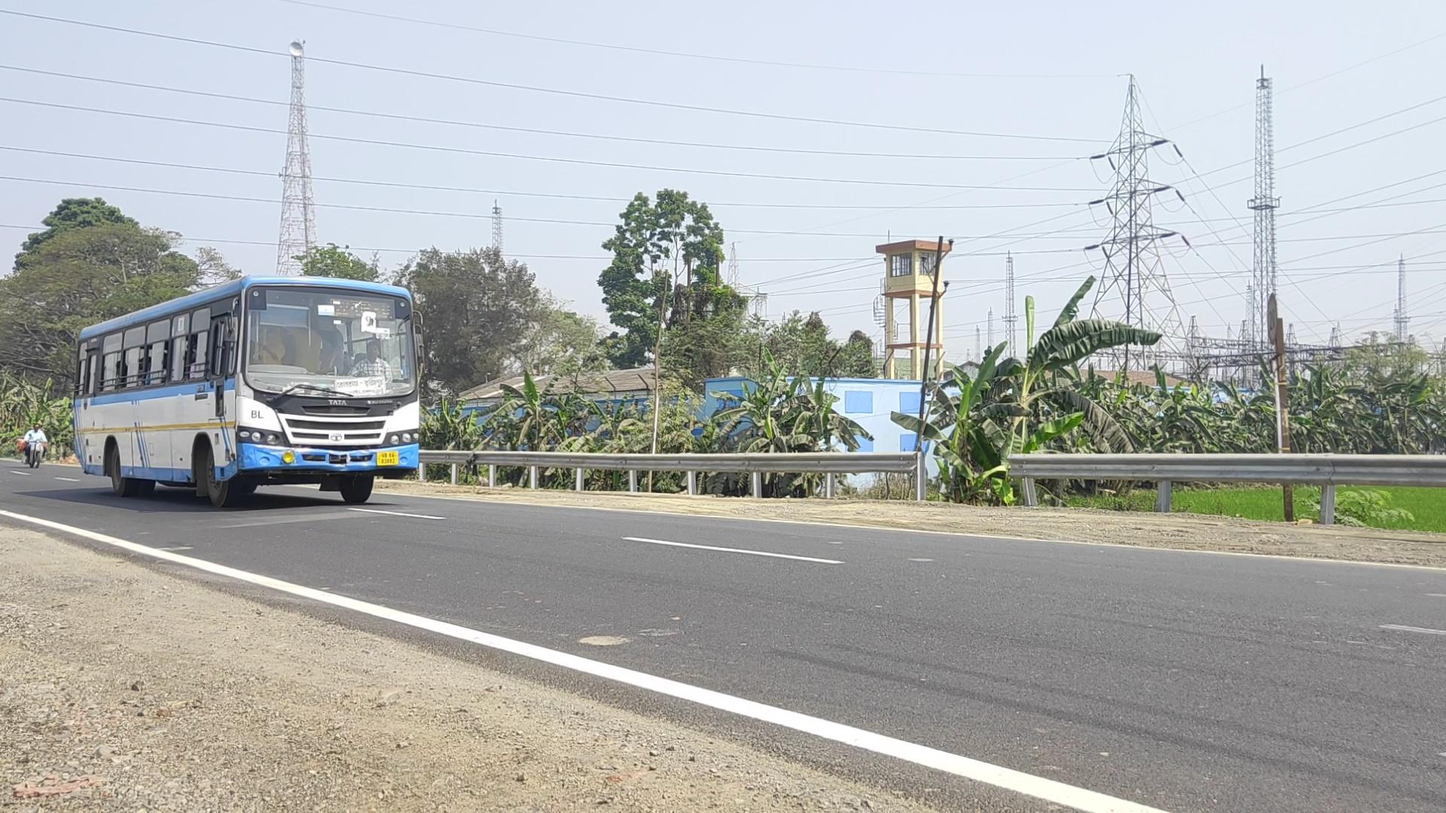Bus: (72, 275, 425, 510)
bike: (17, 423, 47, 469)
